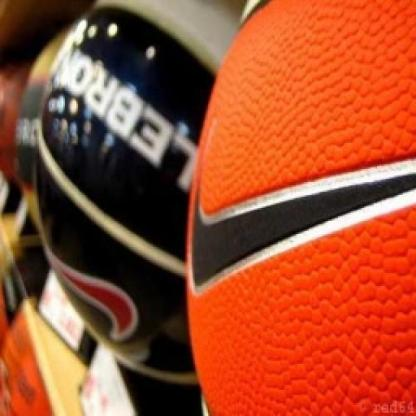basketball: (184, 0, 416, 416)
